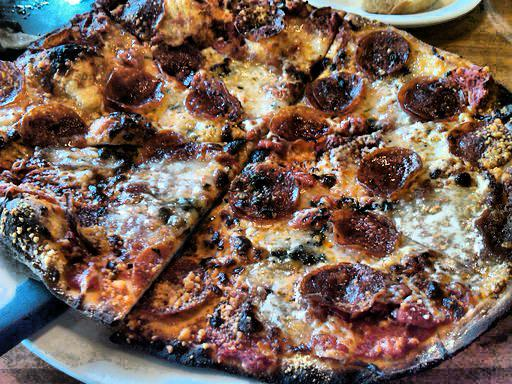pizza: (5, 8, 512, 359)
